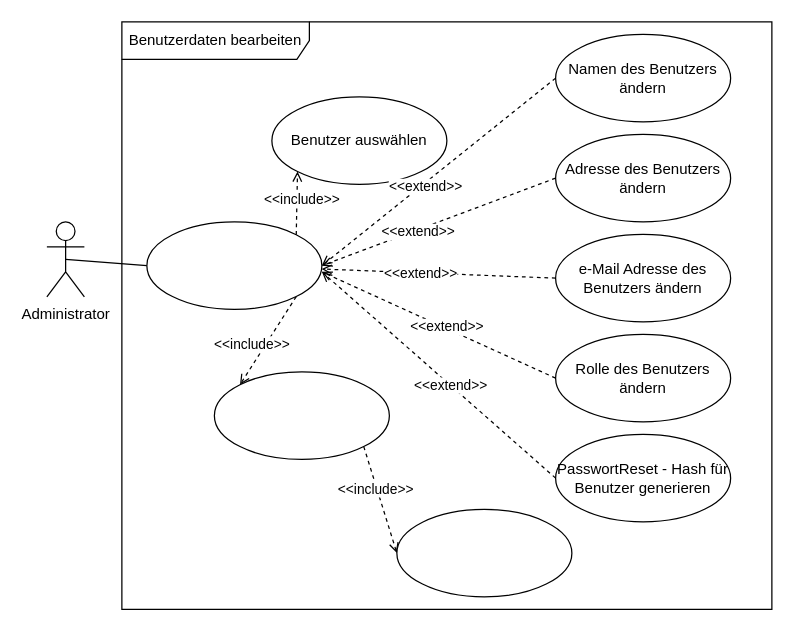
Some shapes in this 794 by 631 pixel diagram are drawn without their labels. The shapes that lost their labels are listed below. From the top down, each one's centre as x and y in pixels, then its label:
At point (234, 265): "Daten eines Benutzers bearbeiten".
At point (301, 415): "Änderung bestätigen".
At point (484, 552): "Passwort eingeben".
